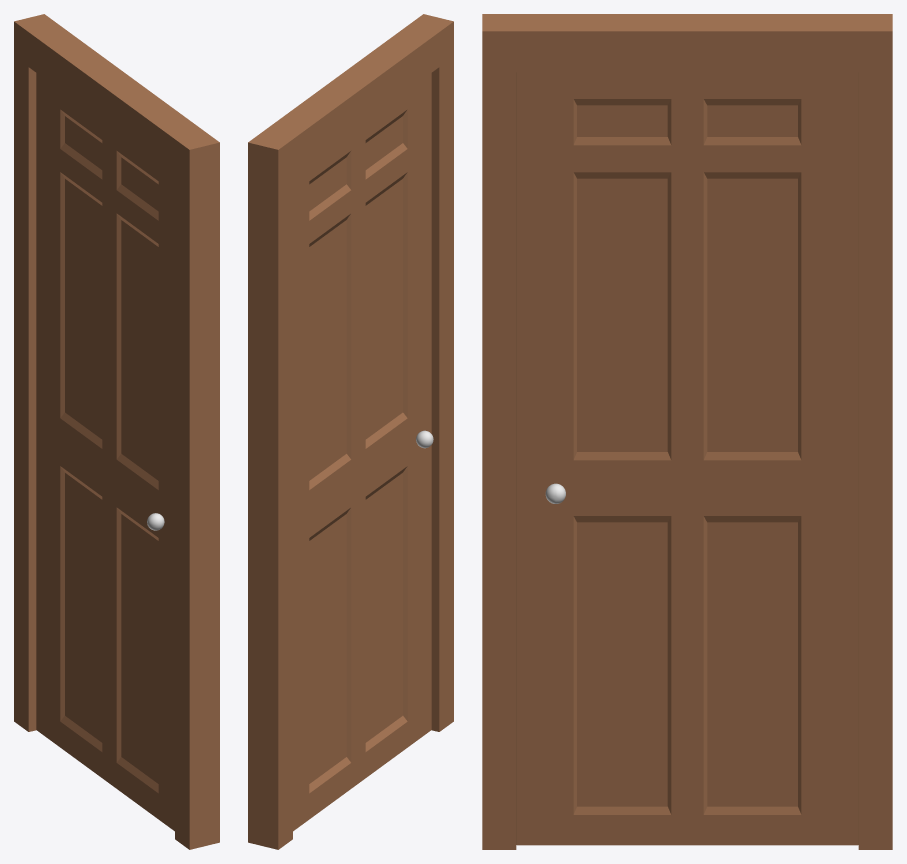
The model's file is Door simple.fbx.
3 views of the same model, side by side, from view 1: azimuth 30°, elevation 25°; view 2: azimuth 150°, elevation 25°; view 3: azimuth 270°, elevation 25° (orthographic). The views are drawn at different scales.
Parts seen in each view (by area): view 1: Door, Doorframe; view 2: Door, Doorframe; view 3: Door, Doorframe.
Part boxes in pixels (x1=…): Door: x1=36, y1=73, x2=174, y2=831; Doorframe: x1=14, y1=14, x2=219, y2=849; Door: x1=293, y1=73, x2=433, y2=831; Doorframe: x1=248, y1=14, x2=453, y2=849; Door: x1=516, y1=72, x2=858, y2=845; Doorframe: x1=482, y1=14, x2=892, y2=849.
Size of the model in its own units: 16.48 by 220 by 100.
